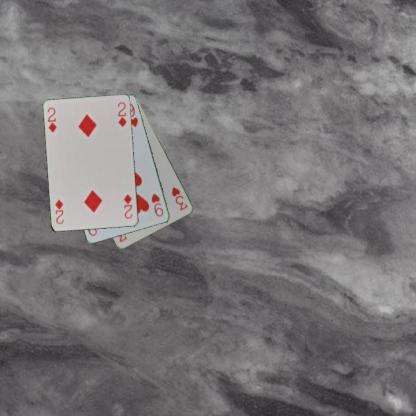2d: (45, 105, 58, 134), (122, 192, 134, 220)
3h: (169, 184, 189, 212)
9h: (149, 190, 165, 218)
